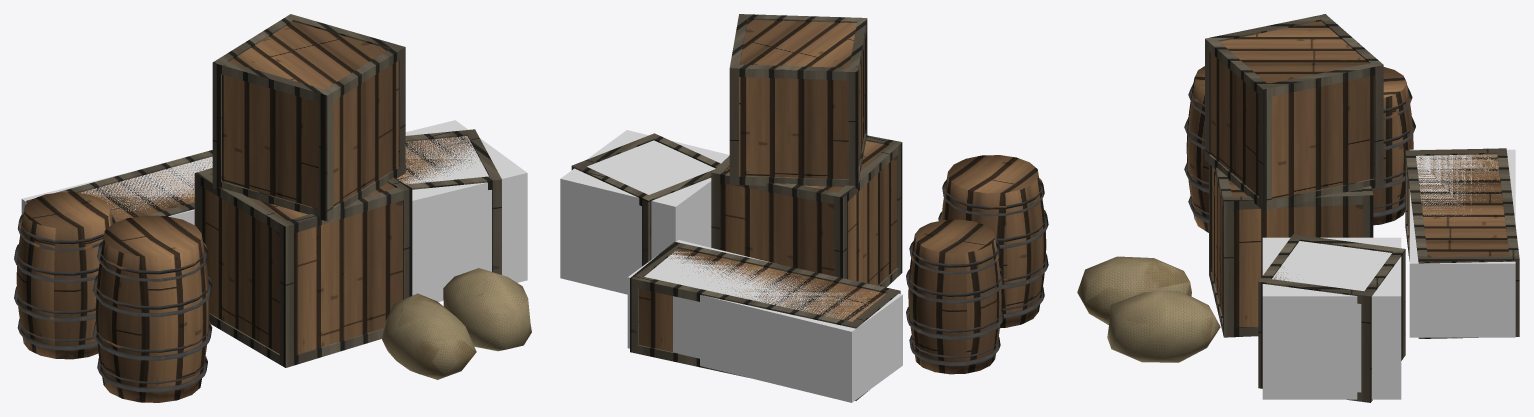
Rendered from crates.glb.
3 renders of one model, left to right at view 1: azimuth 30°, elevation 25°; view 2: azimuth 150°, elevation 25°; view 3: azimuth 270°, elevation 25°, orthographic. The views are drawn at different scales.
Parts seen in each view (by area): view 1: Crates, Barrels, CrateFrames, CrateCol-convcolonly.001, Sacks, BarrelHoops, CrateCol-convcolonly.002; view 2: Crates, CrateCol-convcolonly.002, Barrels, CrateFrames, CrateCol-convcolonly.001, BarrelHoops; view 3: Crates, CrateFrames, CrateCol-convcolonly.001, CrateCol-convcolonly.002, Sacks, Barrels, BarrelHoops.
Part boxes in pixels (x1,y1,x2,y2): Crates: [80, 21, 480, 355]; Barrels: [16, 192, 209, 402]; CrateFrames: [26, 14, 501, 367]; CrateCol-convcolonly.001: [399, 120, 527, 301]; Sacks: [382, 268, 531, 379]; BarrelHoops: [14, 213, 212, 392]; CrateCol-convcolonly.002: [21, 156, 212, 224]; Crates: [639, 19, 896, 351]; CrateCol-convcolonly.002: [627, 240, 902, 402]; Barrels: [908, 155, 1046, 374]; CrateFrames: [571, 14, 902, 400]; CrateCol-convcolonly.001: [560, 130, 729, 294]; BarrelHoops: [906, 178, 1048, 366]; Crates: [1210, 21, 1509, 327]; CrateFrames: [1205, 14, 1519, 402]; CrateCol-convcolonly.001: [1262, 237, 1401, 399]; CrateCol-convcolonly.002: [1409, 149, 1515, 337]; Sacks: [1077, 256, 1220, 362]; Barrels: [1186, 66, 1413, 232]; BarrelHoops: [1184, 83, 1415, 223].
Size of what is drawn, in the model's own units: 3.12 by 1.74 by 2.71.
Materials: 4 (4 with a texture image).
